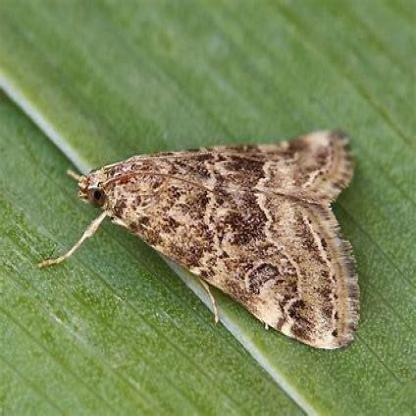Hellula undalis: (37, 122, 363, 356)
